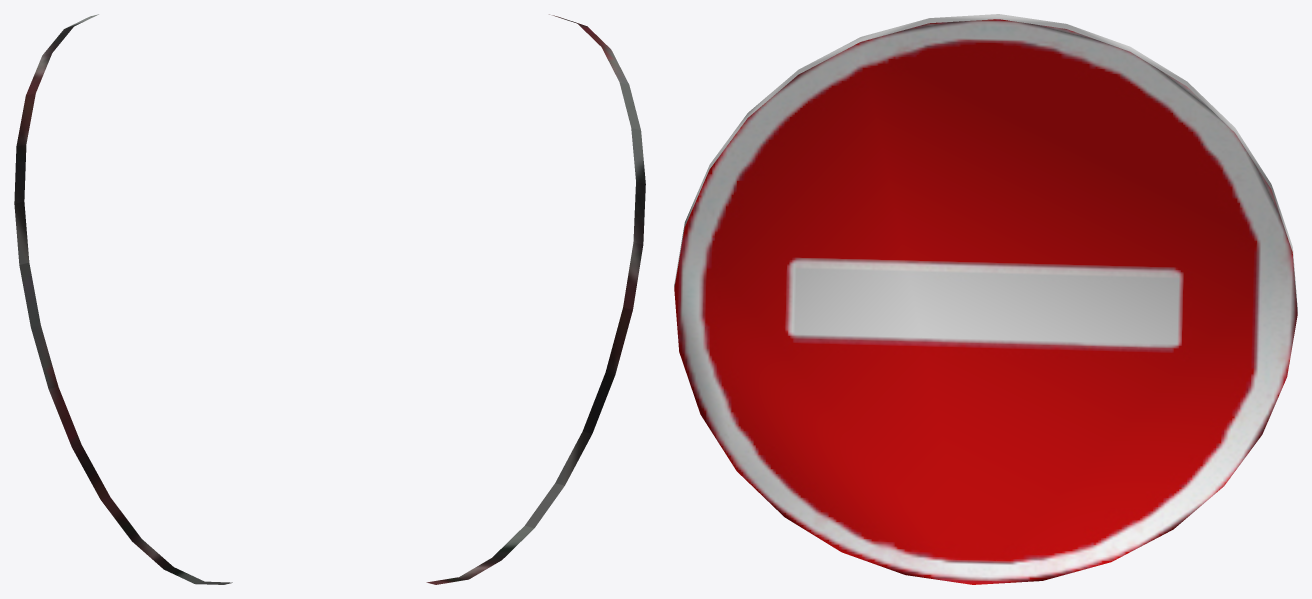
The picture shows the model from 3 angles, left to right: view 1: azimuth 30°, elevation 25°; view 2: azimuth 150°, elevation 25°; view 3: azimuth 270°, elevation 25°; orthographic projection. The views are drawn at different scales.
Visible parts, largest first — view 1: model07; view 2: model07; view 3: model07.
Boxes of the visible parts, <box> form: model07: <box>14,14,232,584</box>; model07: <box>426,14,645,584</box>; model07: <box>674,14,1297,584</box>.
Bounding box in the file's own units: 0.0396 × 1.19 × 1.19.
3 materials, 3 textured.
